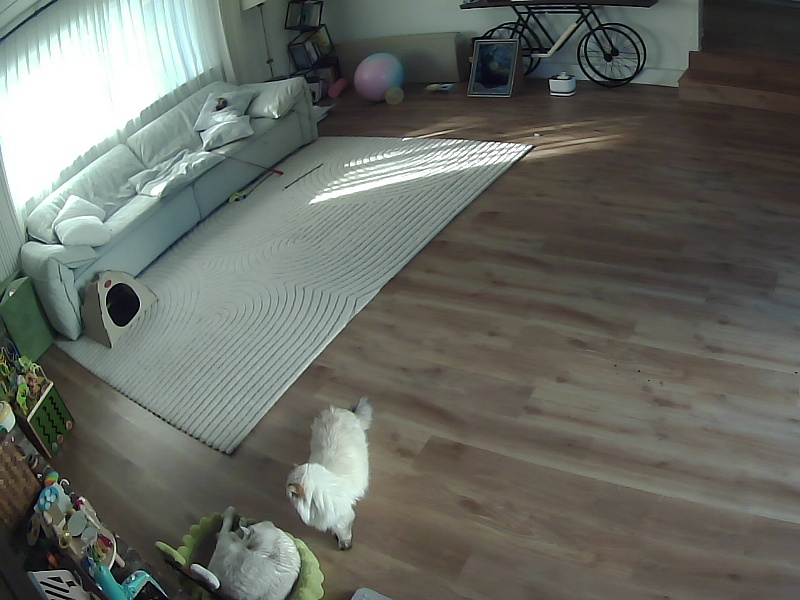Qb-2: (193, 507, 300, 599)
Qbo-2: (286, 397, 372, 549)
